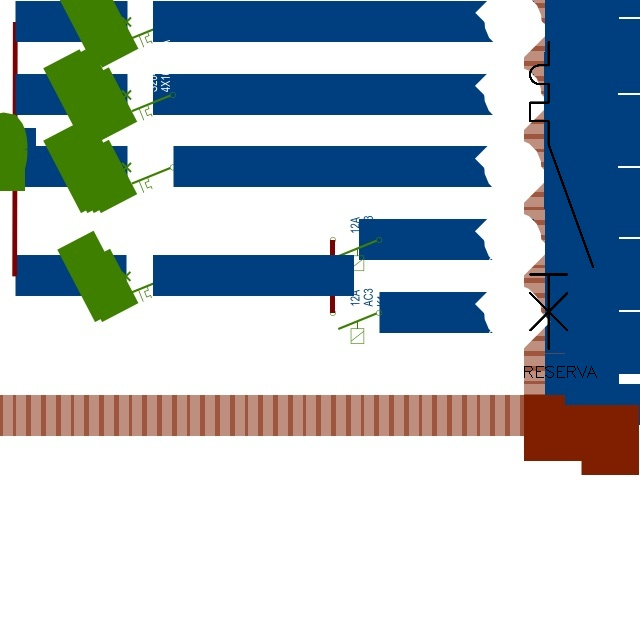interruptor_termomagnetico: (522, 34, 601, 357)
